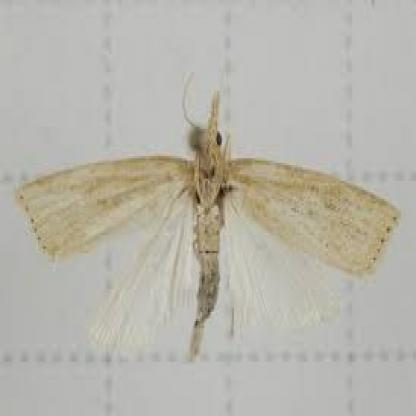stem-borer: (13, 89, 400, 348)
